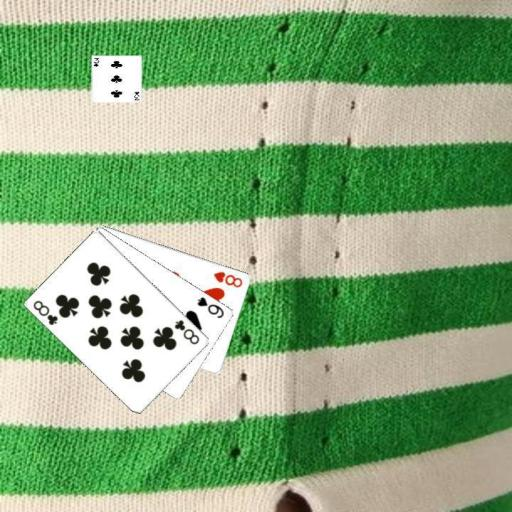card-corner: (172, 316, 202, 346), (30, 297, 60, 327), (194, 294, 226, 320), (210, 268, 244, 289)
